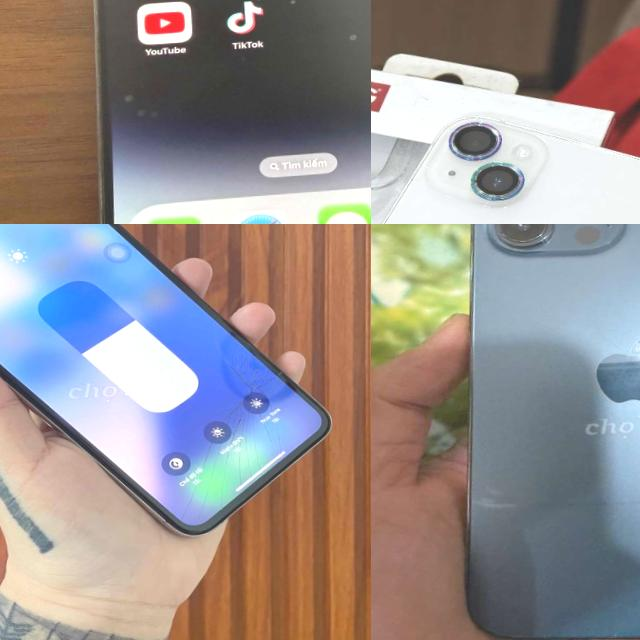gen_12_13: (434, 224, 640, 640)
gen_14: (61, 0, 371, 224), (371, 93, 640, 224)
gen_x_xs: (0, 224, 350, 560)
physical_damage: (146, 320, 298, 524)
scratch: (457, 454, 640, 565), (115, 80, 174, 132)
screen_defect: (334, 21, 370, 54)
